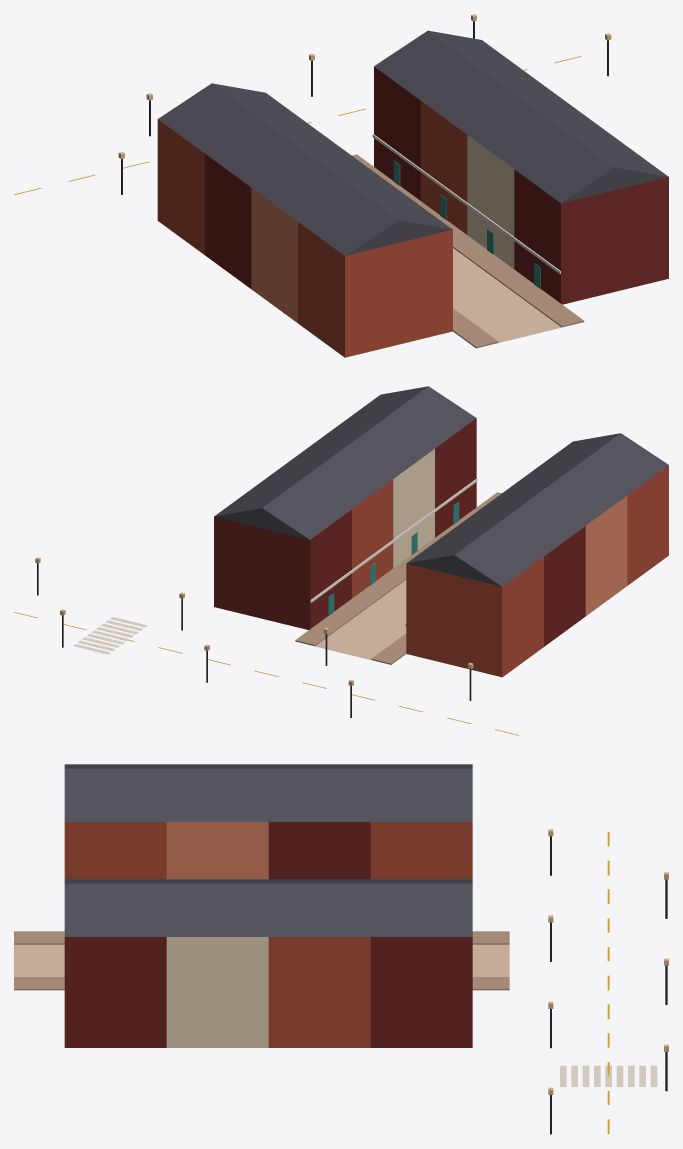
The model's file is chunk_-1_2.glb.
3 views of the same model, one above another, from view 1: azimuth 30°, elevation 25°; view 2: azimuth 150°, elevation 25°; view 3: azimuth 270°, elevation 25° (orthographic). The views are drawn at different scales.
Visible parts, largest first — view 1: chunk_-1_2__building, chunk_-1_2__ground, chunk_-1_2__lamp; view 2: chunk_-1_2__building, chunk_-1_2__ground, chunk_-1_2__lamp; view 3: chunk_-1_2__building, chunk_-1_2__ground, chunk_-1_2__lamp.
Boxes of the visible parts, bbox=[...] form: chunk_-1_2__building: bbox=[157, 30, 668, 357]; chunk_-1_2__ground: bbox=[14, 56, 584, 348]; chunk_-1_2__lamp: bbox=[118, 14, 611, 194]; chunk_-1_2__building: bbox=[214, 386, 668, 677]; chunk_-1_2__ground: bbox=[14, 492, 518, 735]; chunk_-1_2__lamp: bbox=[35, 557, 473, 717]; chunk_-1_2__building: bbox=[64, 764, 472, 1047]; chunk_-1_2__ground: bbox=[14, 832, 657, 1133]; chunk_-1_2__lamp: bbox=[548, 829, 668, 1134].
Size of the model in its own units: 63.22 by 13.2 by 57.79.
